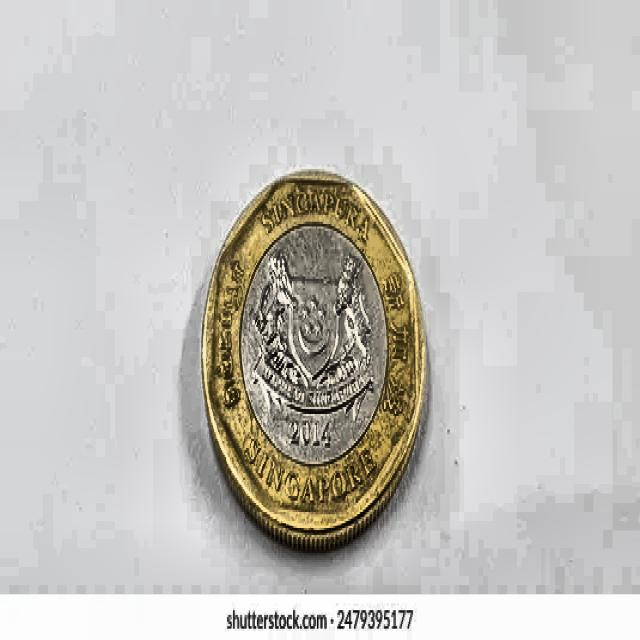coin: (202, 174, 425, 549)
